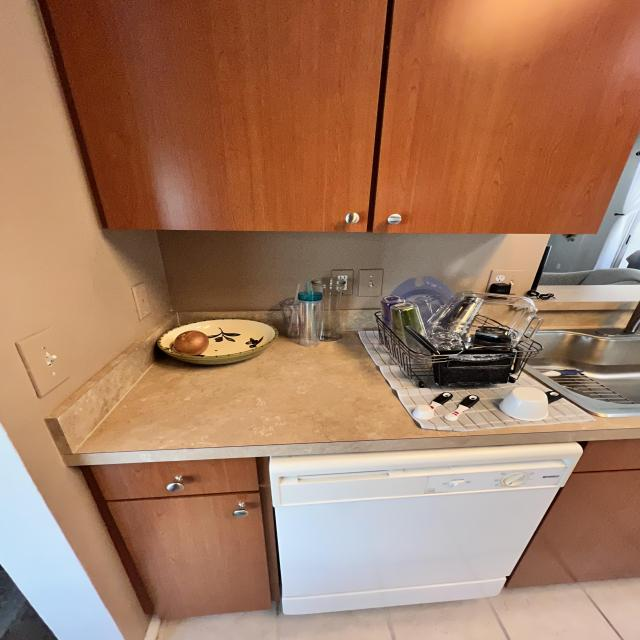Appliance_Dishwasher: (263, 443, 584, 619)
Appliance_Sink: (524, 301, 640, 419)
Cabinet_Flat: (39, 0, 640, 236), (83, 460, 277, 623), (508, 441, 640, 592)
Countertop_Laminate: (55, 337, 640, 465)
